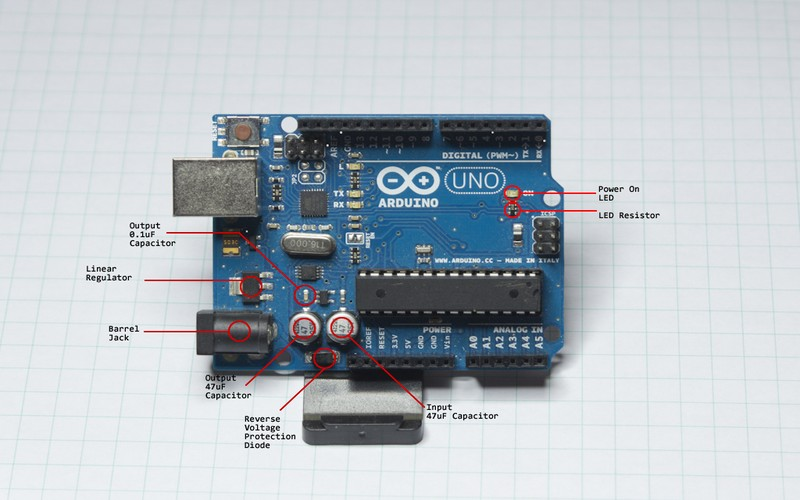Regulator: (158, 83, 585, 450)
